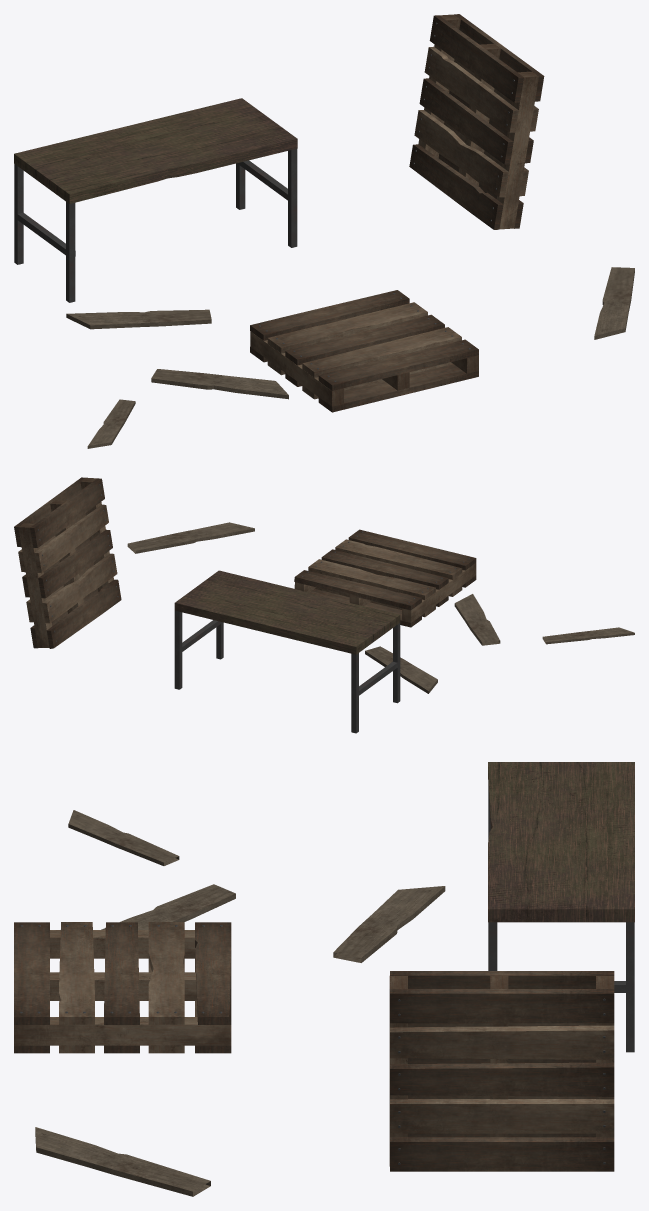
The model's file is background2.fbx.
3 views of the same model, one above another, from view 1: azimuth 30°, elevation 25°; view 2: azimuth 150°, elevation 25°; view 3: azimuth 270°, elevation 25° (orthographic). The views are drawn at different scales.
Parts seen in each view (by area): view 1: Group001, Cylinder022, Cylinder020; view 2: Group001, Cylinder022, Cylinder020; view 3: Cylinder022, Group001, Cylinder020.
Part boxes in pixels (bbox=[...]): Group001: bbox=[14, 98, 634, 448]; Cylinder022: bbox=[409, 14, 544, 229]; Cylinder020: bbox=[250, 290, 478, 412]; Group001: bbox=[127, 522, 634, 733]; Cylinder022: bbox=[14, 477, 121, 648]; Cylinder020: bbox=[294, 529, 476, 627]; Cylinder022: bbox=[389, 971, 614, 1171]; Group001: bbox=[35, 762, 634, 1196]; Cylinder020: bbox=[14, 922, 231, 1053].
Bounding box in the file's own units: 597 × 146 × 409.
